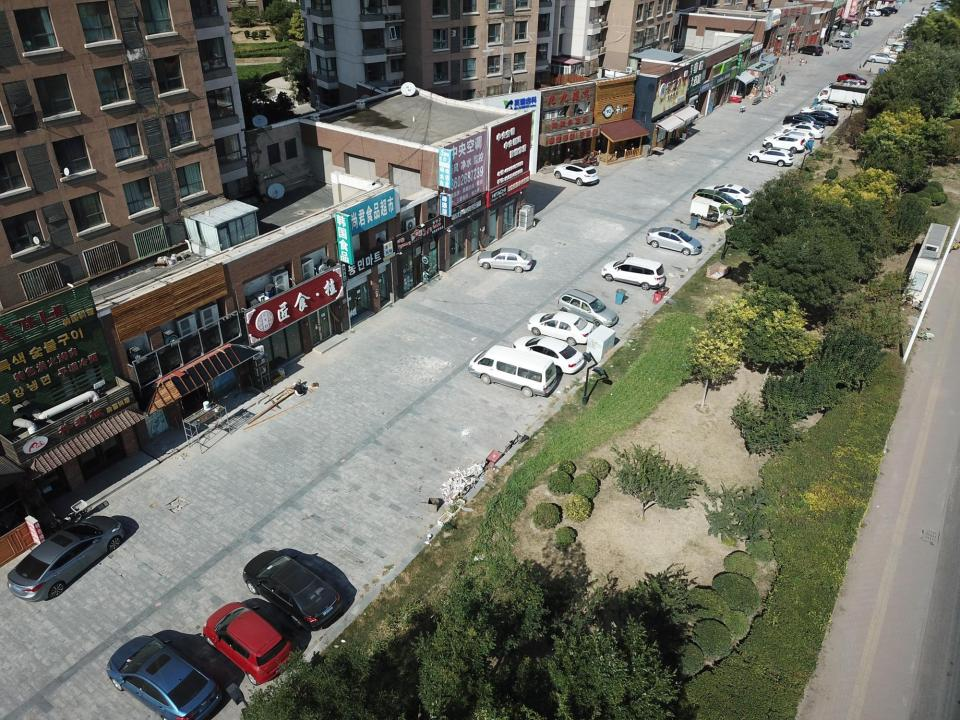car: (105, 633, 224, 720), (7, 516, 125, 602), (240, 546, 343, 634), (201, 601, 303, 686), (511, 335, 586, 376), (556, 289, 619, 328), (598, 255, 668, 290), (526, 312, 596, 345), (645, 225, 703, 255), (476, 248, 534, 275), (690, 188, 744, 217), (700, 182, 755, 209), (552, 162, 601, 186), (746, 148, 794, 168), (780, 122, 824, 141), (796, 110, 840, 129), (798, 103, 842, 122), (763, 135, 807, 153), (771, 129, 815, 147), (782, 113, 826, 131), (832, 80, 867, 96), (837, 74, 868, 88), (866, 53, 897, 65), (799, 43, 824, 57), (828, 38, 852, 49), (859, 16, 876, 27), (879, 6, 898, 15), (874, 7, 892, 16), (862, 9, 881, 17)
truck: (816, 85, 869, 109)
van: (467, 345, 558, 399)
